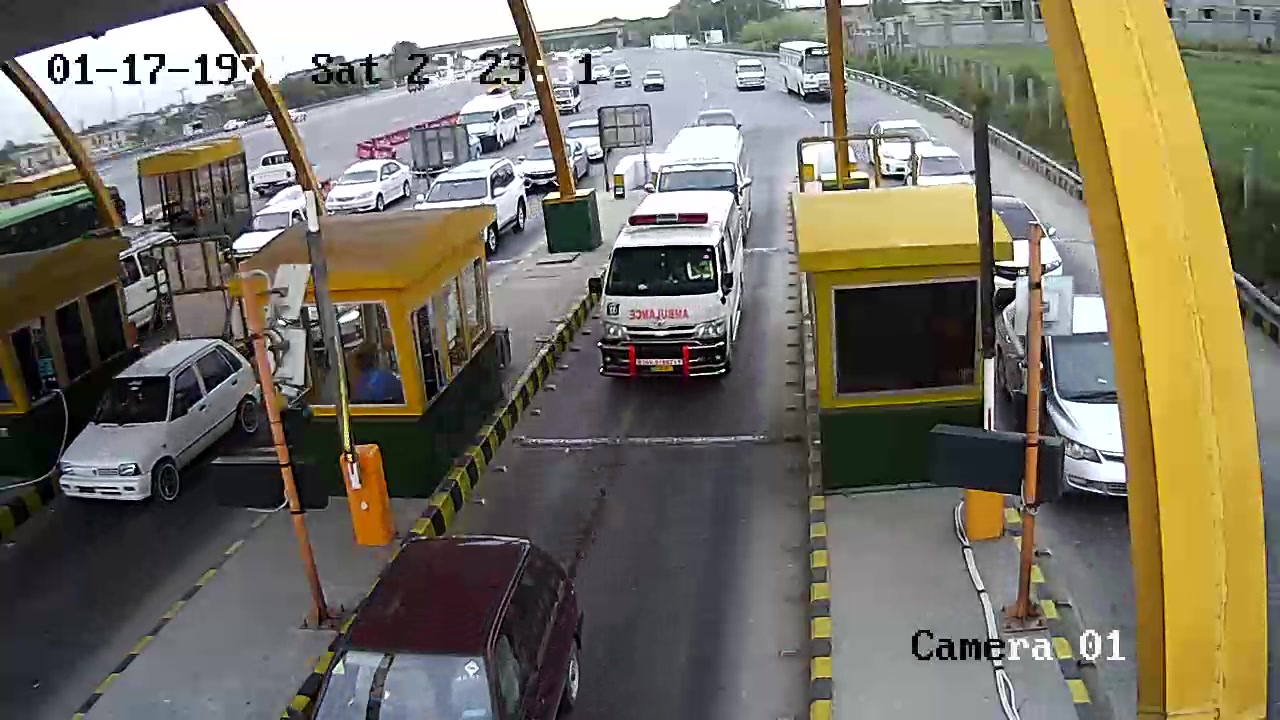F3: (600, 190, 743, 396)
